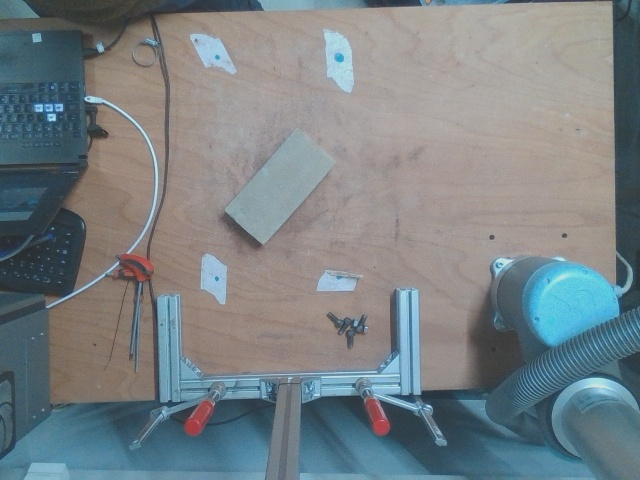brick: (227, 128, 334, 241)
